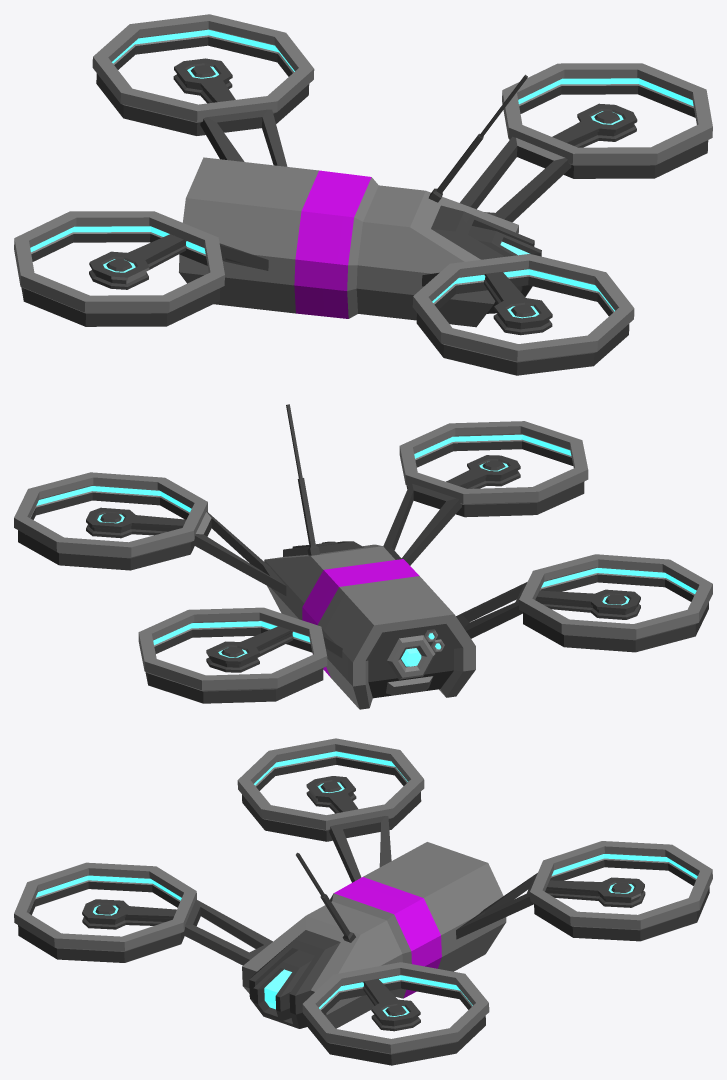
Rendered from 02_drone.fbx.
The picture shows the model from 3 angles, top to bottom: view 1: azimuth 30°, elevation 25°; view 2: azimuth 150°, elevation 25°; view 3: azimuth 270°, elevation 25°; orthographic projection. The views are drawn at different scales.
Visible parts, largest first — view 1: 02_drone; view 2: 02_drone; view 3: 02_drone.
Boxes of the visible parts, box(x1,y1,x2,y2) form: 02_drone: box(14, 14, 712, 375); 02_drone: box(14, 404, 712, 709); 02_drone: box(14, 738, 712, 1065).
Size of the model in its own units: 288 by 84.36 by 288.
